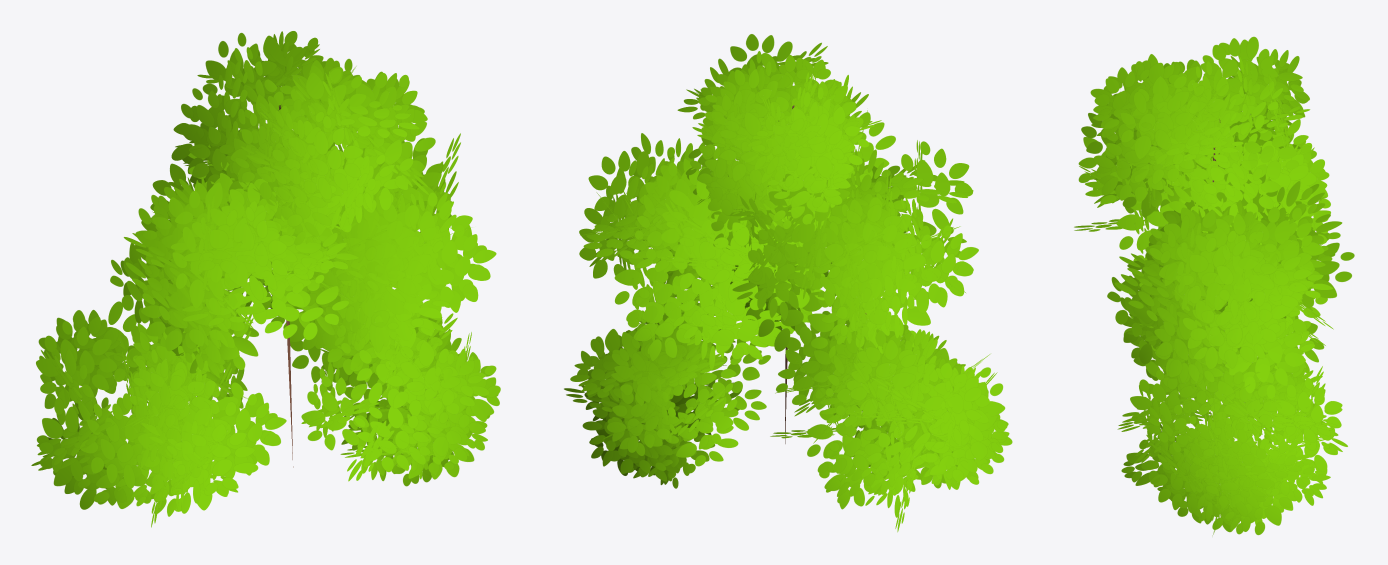
Rendered from tree_oak_b.glb.
3 renders of one model, left to right at view 1: azimuth 30°, elevation 25°; view 2: azimuth 150°, elevation 25°; view 3: azimuth 270°, elevation 25°, orthographic. The views are drawn at different scales.
Parts seen in each view (by area): view 1: tree_oak_b; view 2: tree_oak_b; view 3: tree_oak_b.
Boxes of the visible parts, x1,y1,x2,y2 form: tree_oak_b: (31,31,500,527); tree_oak_b: (564,34,1012,532); tree_oak_b: (1074,36,1354,535).
Bounding box in the file's own units: 4.79 × 4.79 × 2.98.
2 materials, 2 textured.
